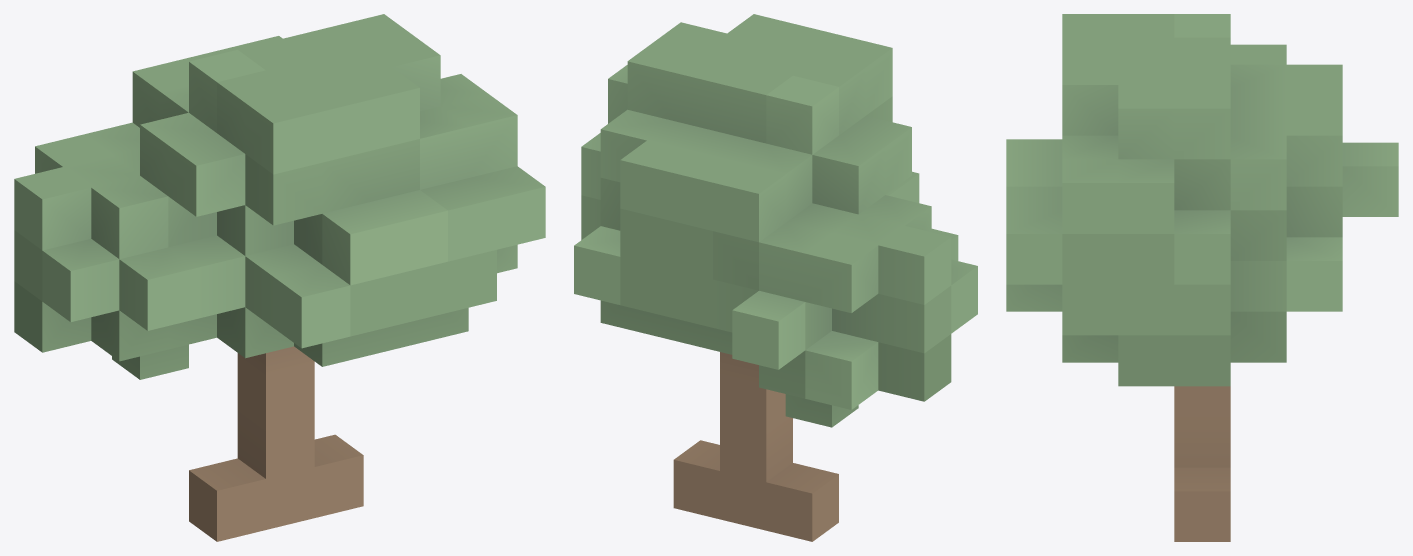
Rendered from tree_plot.v3.glb.
3 renders of one model, left to right at view 1: azimuth 30°, elevation 25°; view 2: azimuth 150°, elevation 25°; view 3: azimuth 270°, elevation 25°, orthographic. The views are drawn at different scales.
Parts seen in each view (by area): view 1: tree_plot; view 2: tree_plot; view 3: tree_plot.
Part boxes in pixels (bbox=[...]): tree_plot: bbox=[14, 14, 545, 541]; tree_plot: bbox=[574, 14, 977, 541]; tree_plot: bbox=[1006, 14, 1398, 541].
Size of the model in its own units: 1 by 1.12 by 0.875.
